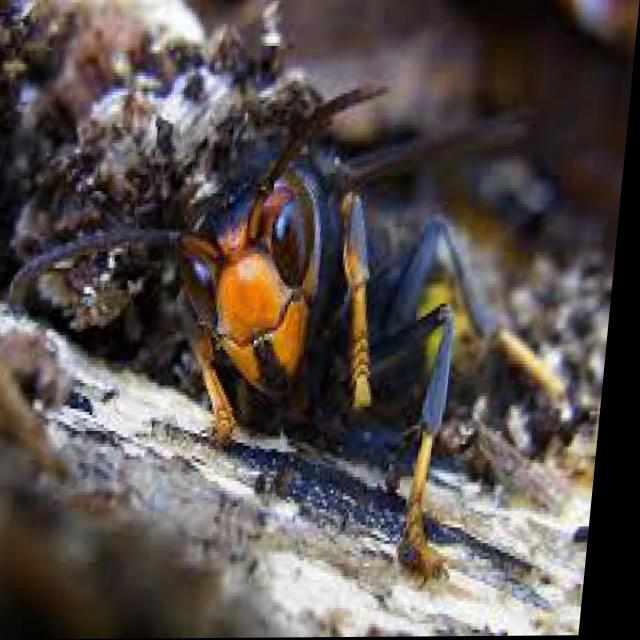Vespa Velutina: (0, 66, 633, 599)
